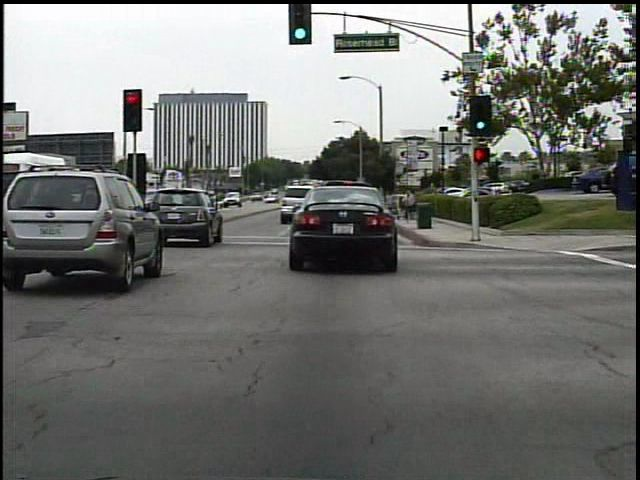person: (400, 187, 417, 225)
